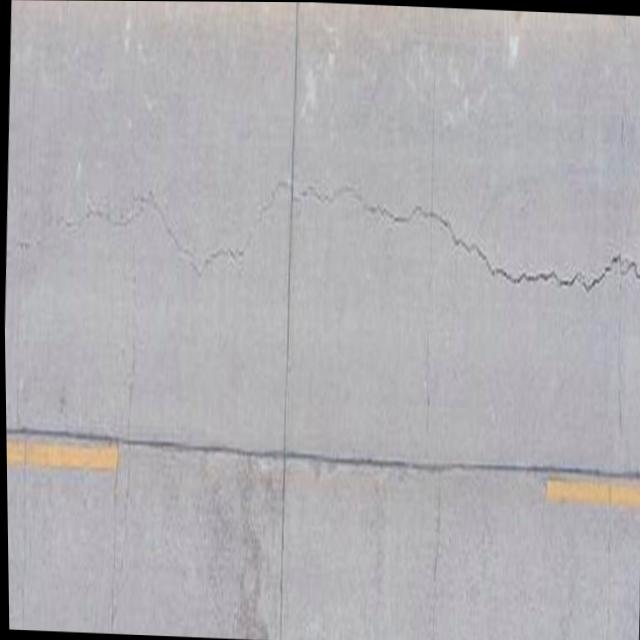Crack: (368, 179, 640, 319)
